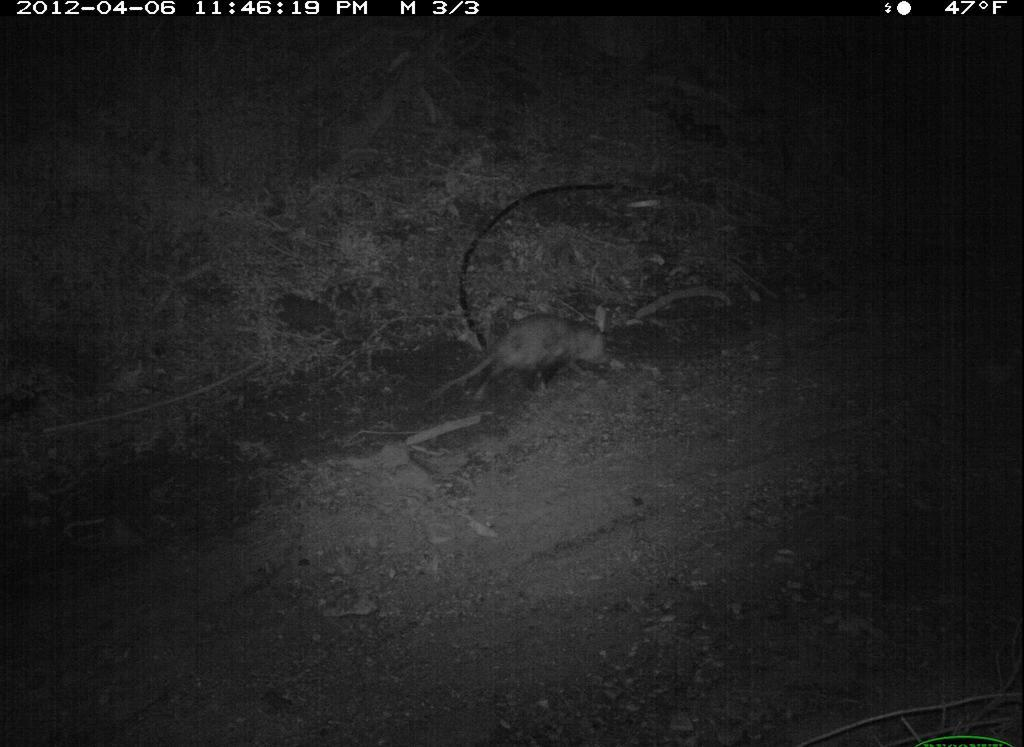opossum: (415, 304, 615, 401)
